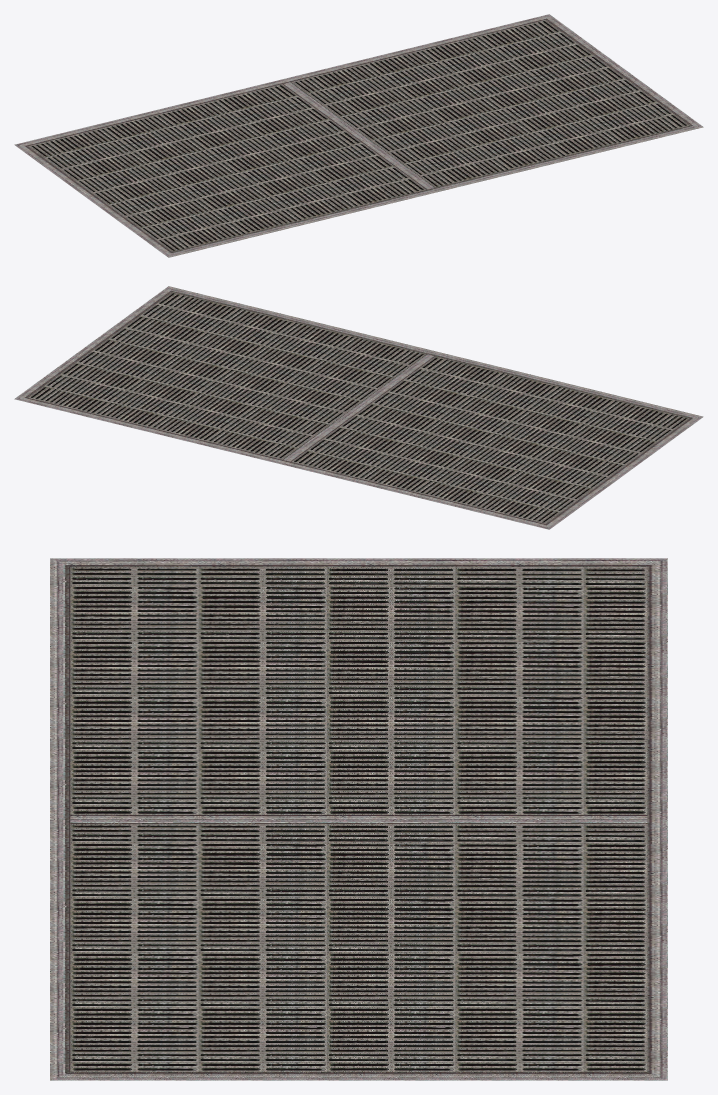
The model's file is subway_grate.fbx.
3 views of the same model, one above another, from view 1: azimuth 30°, elevation 25°; view 2: azimuth 150°, elevation 25°; view 3: azimuth 270°, elevation 25° (orthographic). The views are drawn at different scales.
Parts seen in each view (by area): view 1: mesh_0, mesh_1; view 2: mesh_0, mesh_1; view 3: mesh_0, mesh_1.
Part boxes in pixels (box(x1,y1,x2,y2)): mesh_0: box(28, 20, 689, 251); mesh_1: box(14, 14, 703, 257); mesh_0: box(28, 292, 689, 523); mesh_1: box(14, 286, 703, 529); mesh_0: box(70, 567, 647, 1071); mesh_1: box(50, 558, 667, 1080).
Bounding box in the file's own units: 600 × 2.38e-07 × 300.
2 materials, 2 textured.
